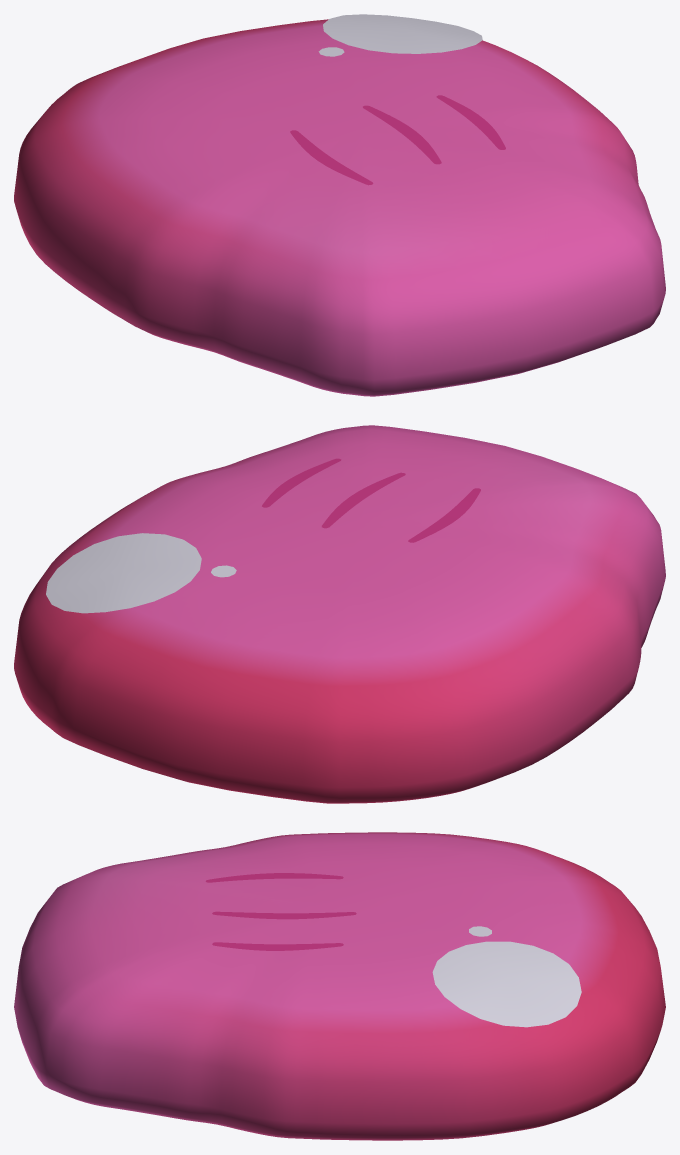
Rendered from item_mermaidScale.glb.
3 views of the same model, one above another, from view 1: azimuth 30°, elevation 25°; view 2: azimuth 150°, elevation 25°; view 3: azimuth 270°, elevation 25° (orthographic). The views are drawn at different scales.
Visible parts, largest first — view 1: item_mermaidScale; view 2: item_mermaidScale; view 3: item_mermaidScale.
Boxes of the visible parts, x1,y1,x2,y2 form: item_mermaidScale: [14, 14, 665, 396]; item_mermaidScale: [14, 425, 665, 803]; item_mermaidScale: [14, 832, 665, 1140].
Size of the model in its own units: 0.1016 by 0.0289 by 0.12.
